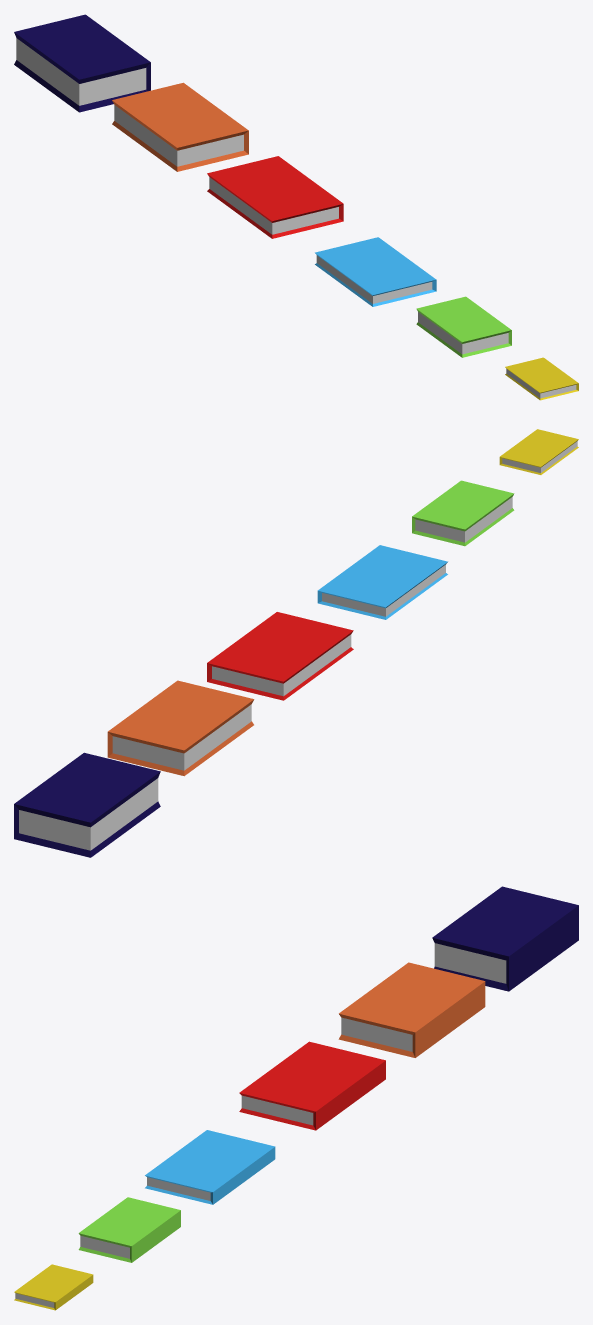
Rendered from Mdl_Books.fbx.
3 views of the same model, one above another, from view 1: azimuth 30°, elevation 25°; view 2: azimuth 150°, elevation 25°; view 3: azimuth 330°, elevation 25° (orthographic). The views are drawn at different scales.
Parts seen in each view (by area): view 1: 1, 2, 3, 4, 5, 6; view 2: 1, 2, 3, 4, 5, 6; view 3: 1, 2, 3, 4, 5, 6.
Part boxes in pixels (box(x1,y1,x2,y2)): 1: box(14, 14, 150, 112); 2: box(112, 82, 248, 171); 3: box(207, 156, 343, 238); 4: box(315, 237, 436, 306); 5: box(416, 296, 511, 357); 6: box(505, 357, 578, 400); 1: box(14, 752, 160, 857); 2: box(107, 680, 254, 776); 3: box(207, 612, 353, 700); 4: box(317, 545, 447, 619); 5: box(412, 480, 514, 546); 6: box(499, 429, 578, 474); 1: box(432, 886, 578, 991); 2: box(338, 962, 485, 1057); 3: box(239, 1041, 385, 1130); 4: box(145, 1130, 275, 1204); 5: box(78, 1197, 180, 1262); 6: box(14, 1264, 93, 1310).
Bounding box in the file's own units: 8.59 × 3.45 × 93.51.
